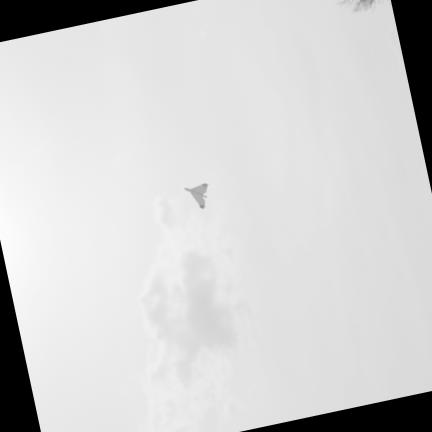Shahed: (184, 183, 207, 207)
